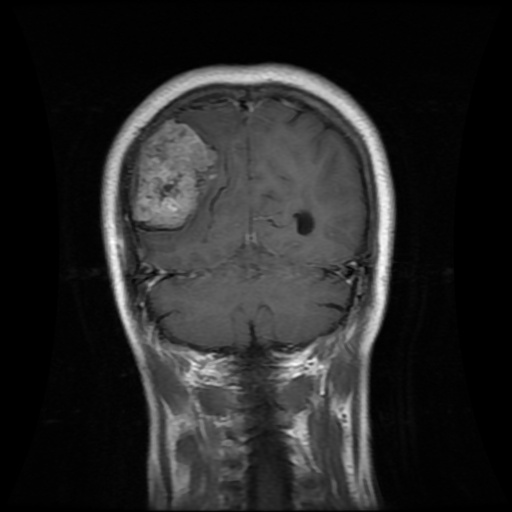meningioma: (130, 120, 219, 228)
